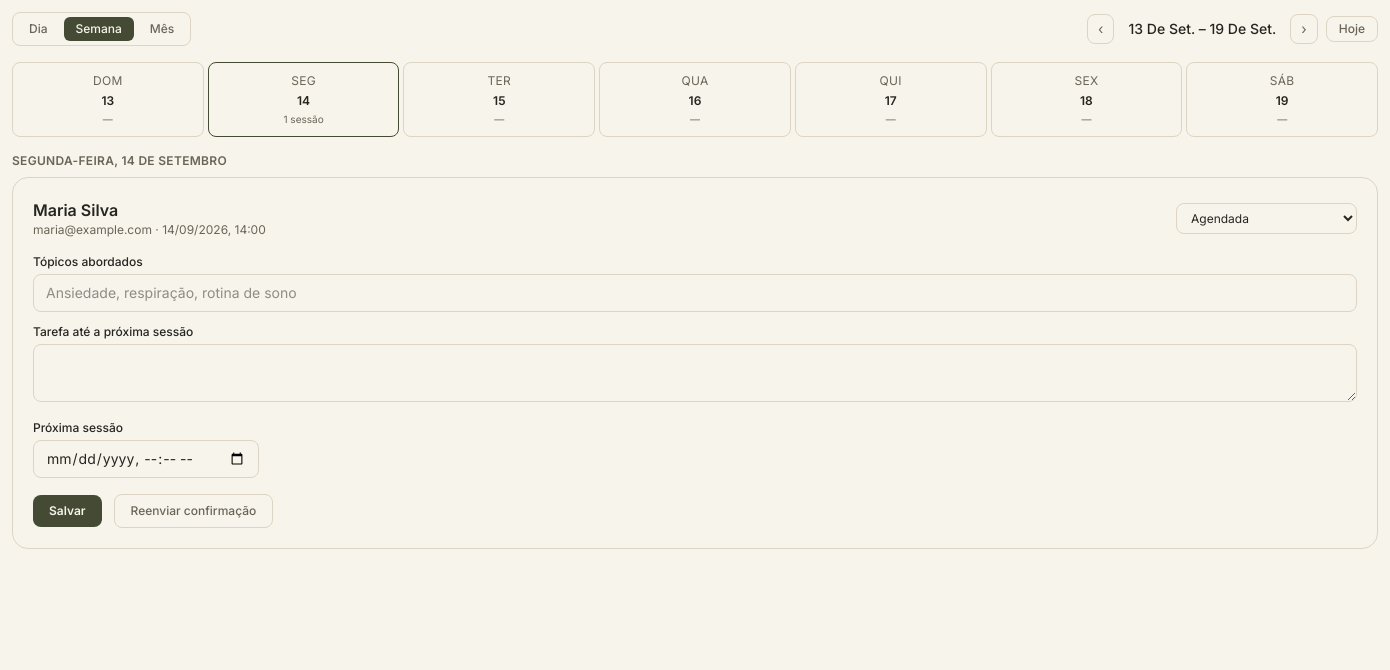
it: AgendaCalendar › switches to month view and shows a day-count dot
Click the button "Mês" at {"x": 162, "y": 29}, box [138,17,186,41]
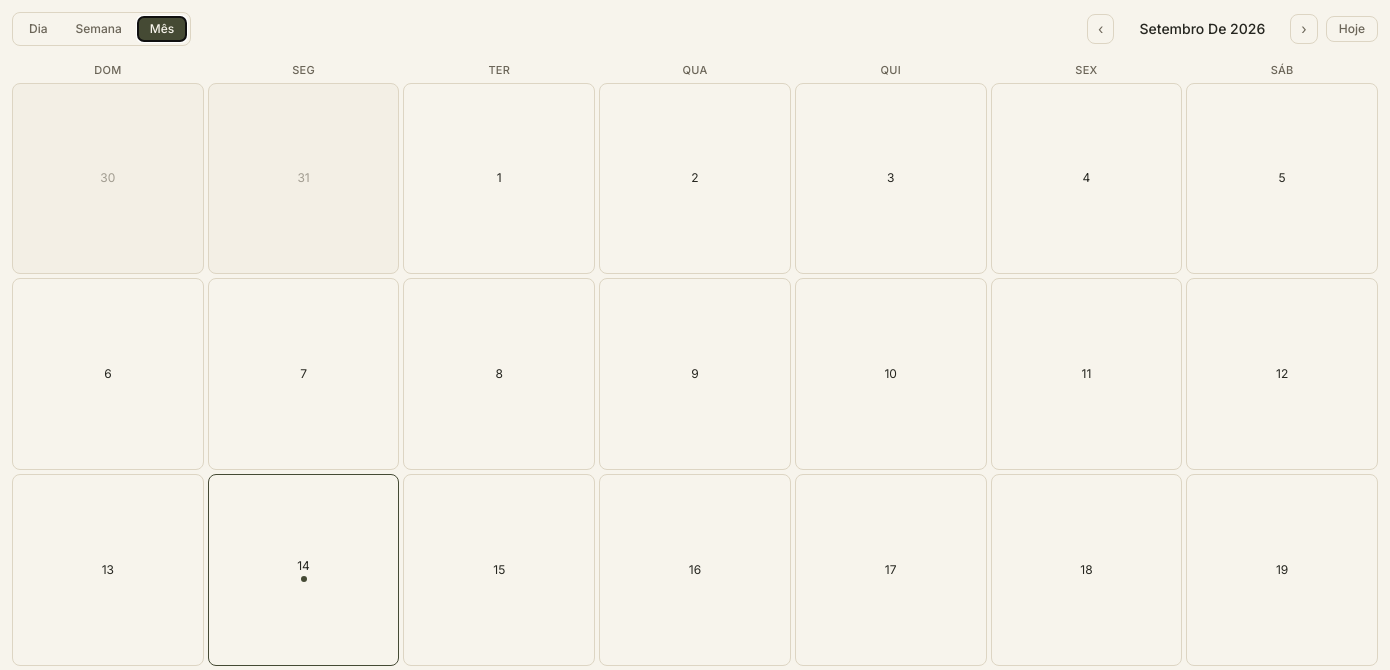
Expected: the text "Maria Silva" is gone
